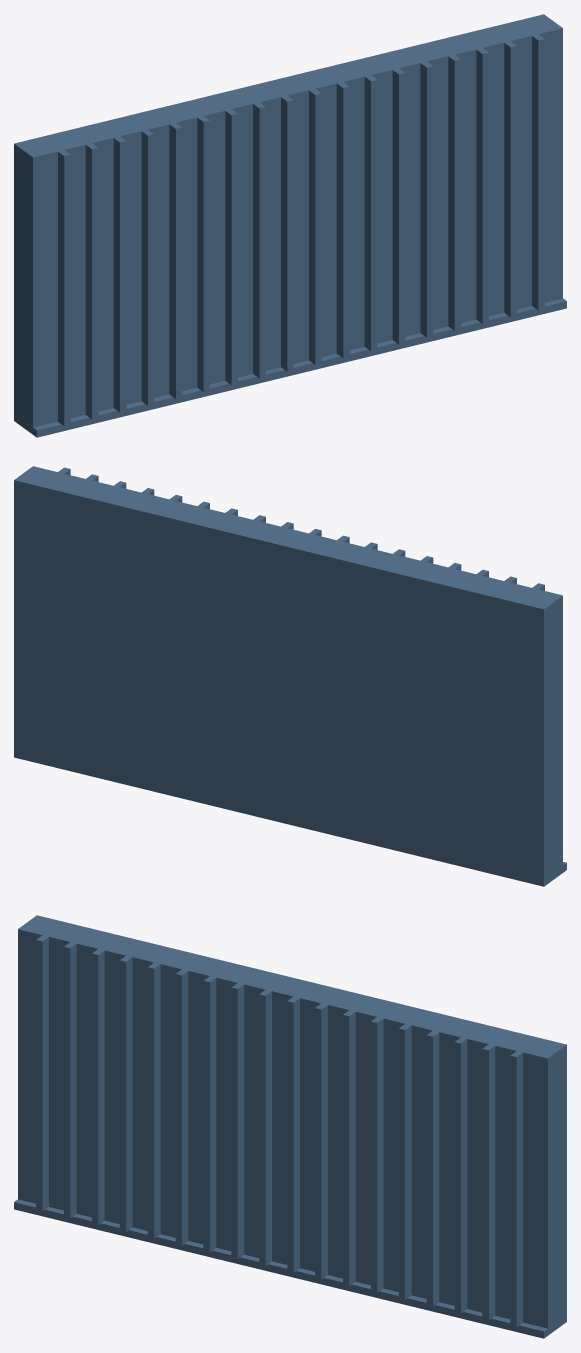
The model's file is SM_Muro_metallico.fbx.
3 renders of one model, top to bottom at view 1: azimuth 30°, elevation 25°; view 2: azimuth 150°, elevation 25°; view 3: azimuth 330°, elevation 25°, orthographic.
Parts seen in each view (by area): view 1: SM_Muro_metallico1_uv_ok; view 2: SM_Muro_metallico1_uv_ok; view 3: SM_Muro_metallico1_uv_ok.
Part boxes in pixels (<box>): SM_Muro_metallico1_uv_ok: <box>14,14,566,437</box>; SM_Muro_metallico1_uv_ok: <box>14,466,566,886</box>; SM_Muro_metallico1_uv_ok: <box>14,915,566,1338</box>.
Bounding box in the file's own units: 0.04 × 0.02 × 0.00334.
